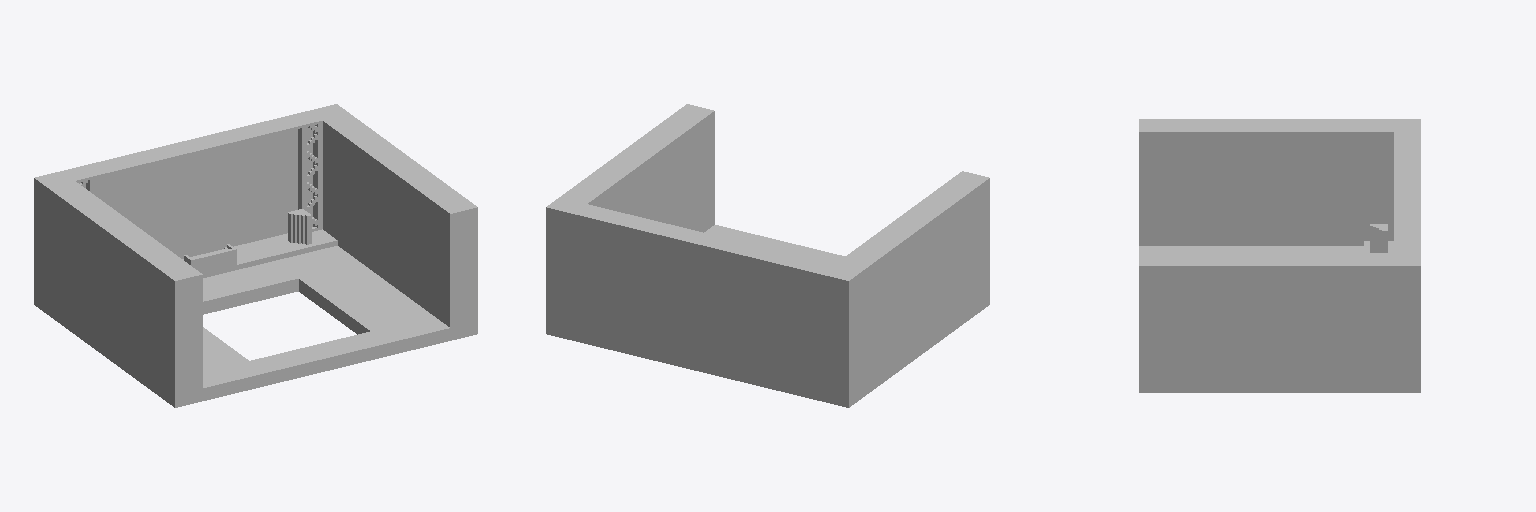
The model's file is stage.obj.
3 views of the same model, side by side, from view 1: azimuth 30°, elevation 25°; view 2: azimuth 150°, elevation 25°; view 3: azimuth 270°, elevation 25° (orthographic).
Parts seen in each view (by area): view 1: Untitled; view 2: Untitled; view 3: Untitled.
Boxes of the visible parts, x1=… form: Untitled: x1=34, y1=104, x2=477, y2=407; Untitled: x1=546, y1=104, x2=989, y2=407; Untitled: x1=1139, y1=119, x2=1420, y2=392.
Size of the model in its own units: 57.02 by 22.83 by 46.07.